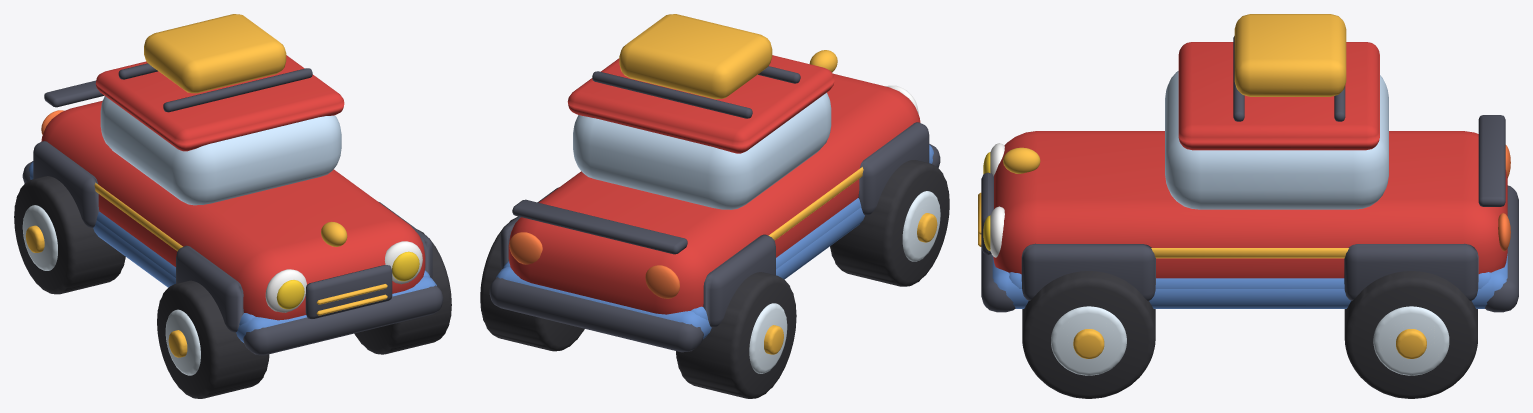
The model's file is toy-sunday.glb.
The picture shows the model from 3 angles, left to right: view 1: azimuth 30°, elevation 25°; view 2: azimuth 150°, elevation 25°; view 3: azimuth 270°, elevation 25°; orthographic projection. The views are drawn at different scales.
Parts seen in each view (by area): view 1: body, wheel-back-right, wheel-front-right, grill, wheel-front-left, spoiler; view 2: body, wheel-front-right, wheel-back-right, wheel-back-left, spoiler; view 3: body, wheel-front-left, wheel-back-left, spoiler, grill.
Part boxes in pixels (x1=…): body: x1=22, y1=14, x2=443, y2=355; wheel-back-right: x1=14, y1=176, x2=125, y2=294; wheel-front-right: x1=157, y1=280, x2=269, y2=398; grill: x1=305, y1=265, x2=392, y2=319; wheel-front-left: x1=354, y1=229, x2=451, y2=354; spoiler: x1=44, y1=80, x2=104, y2=107; body: x1=489, y1=14, x2=940, y2=352; wheel-front-right: x1=830, y1=160, x2=949, y2=286; wheel-back-right: x1=676, y1=272, x2=796, y2=398; wheel-back-left: x1=480, y1=217, x2=584, y2=351; spoiler: x1=512, y1=199, x2=687, y2=254; body: x1=981, y1=14, x2=1518, y2=312; wheel-front-left: x1=1022, y1=271, x2=1155, y2=398; wheel-back-left: x1=1344, y1=271, x2=1477, y2=398; spoiler: x1=1478, y1=115, x2=1505, y2=206; grill: x1=978, y1=172, x2=993, y2=254.
Bounding box in the file's own units: 1.52 × 1.47 × 2.42.
Materials: 1 (1 with a texture image).
